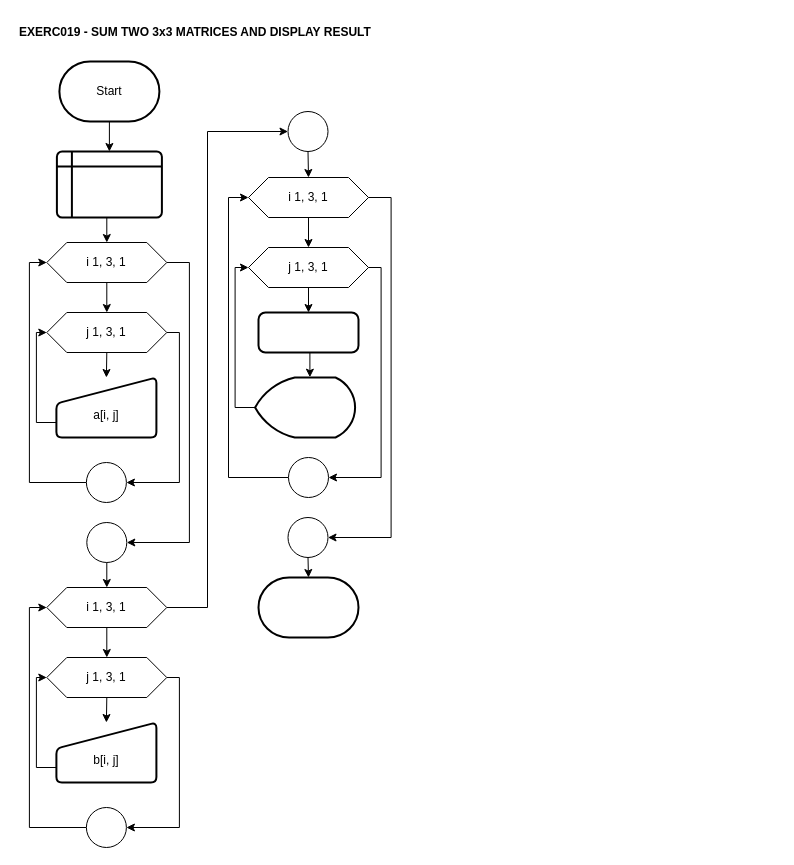
Some shapes in this 794 by 865 pixel diagram are drawn without their labels. The shapes that lost their labels are listed below. From the top down, each one's centre as x and y in pixels, then its label:
At [108,184]: "a[3] [3] b[3] [3] soma".
At [308,332]: "soma = a[i][j] + b[i][j]".
At [305,407]: "soma".
At [308,607]: "Stop".
